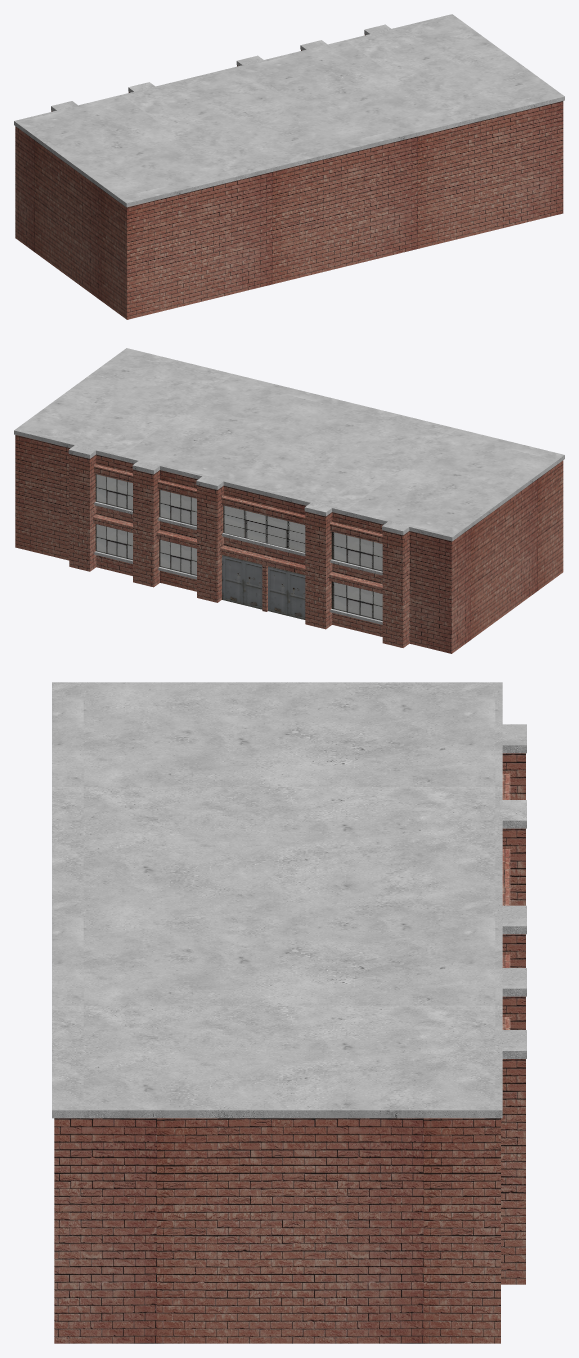
File: Building1.FBX
The picture shows the model from 3 angles, top to bottom: view 1: azimuth 30°, elevation 25°; view 2: azimuth 150°, elevation 25°; view 3: azimuth 270°, elevation 25°; orthographic projection. The views are drawn at different scales.
Visible parts, largest first — view 1: Box001, Box007; view 2: Box007, Box001, Plane006, Box017, Box015, Box002, Box019, Box021, Plane007, Box025, Box023, Plane001 (+7 smaller); view 3: Box007, Box001, Box002, Box015, Box023, Box017, Box022, Box018.
Boxes of the visible parts, left/top/right/bottom form: Box001: left=15, top=101, right=563, bottom=319; Box007: left=14, top=14, right=564, bottom=207; Box007: left=14, top=348, right=564, bottom=541; Box001: left=15, top=435, right=563, bottom=653; Plane006: left=222, top=555, right=305, bottom=619; Box017: left=382, top=530, right=409, bottom=647; Box015: left=305, top=511, right=332, bottom=629; Box002: left=69, top=454, right=96, bottom=571; Box019: left=133, top=469, right=159, bottom=587; Box021: left=197, top=485, right=223, bottom=602; Plane007: left=223, top=505, right=305, bottom=552; Box025: left=93, top=514, right=382, bottom=593; Box023: left=94, top=464, right=382, bottom=543; Plane001: left=331, top=531, right=382, bottom=571; Box007: left=52, top=682, right=502, bottom=1118; Box001: left=54, top=1118, right=500, bottom=1343; Box002: left=501, top=1059, right=525, bottom=1284; Box015: left=502, top=828, right=525, bottom=905; Box023: left=502, top=773, right=510, bottom=1029; Box017: left=502, top=753, right=525, bottom=799; Box022: left=499, top=905, right=526, bottom=934; Box018: left=499, top=724, right=526, bottom=753.
Bounding box in the file's own units: 317 × 81.04 × 149.
